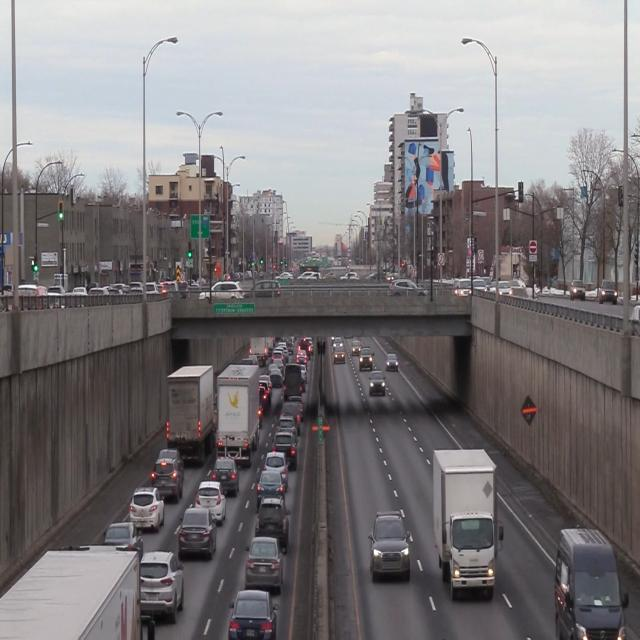Car: (433, 444, 497, 602), (554, 528, 630, 640), (215, 364, 261, 468), (166, 365, 212, 464), (367, 510, 408, 584), (137, 554, 184, 616), (229, 591, 278, 640), (245, 538, 284, 591), (178, 511, 215, 559), (126, 488, 165, 532), (252, 499, 289, 544), (192, 480, 228, 524), (152, 459, 183, 501), (254, 471, 284, 506), (212, 457, 240, 494)
